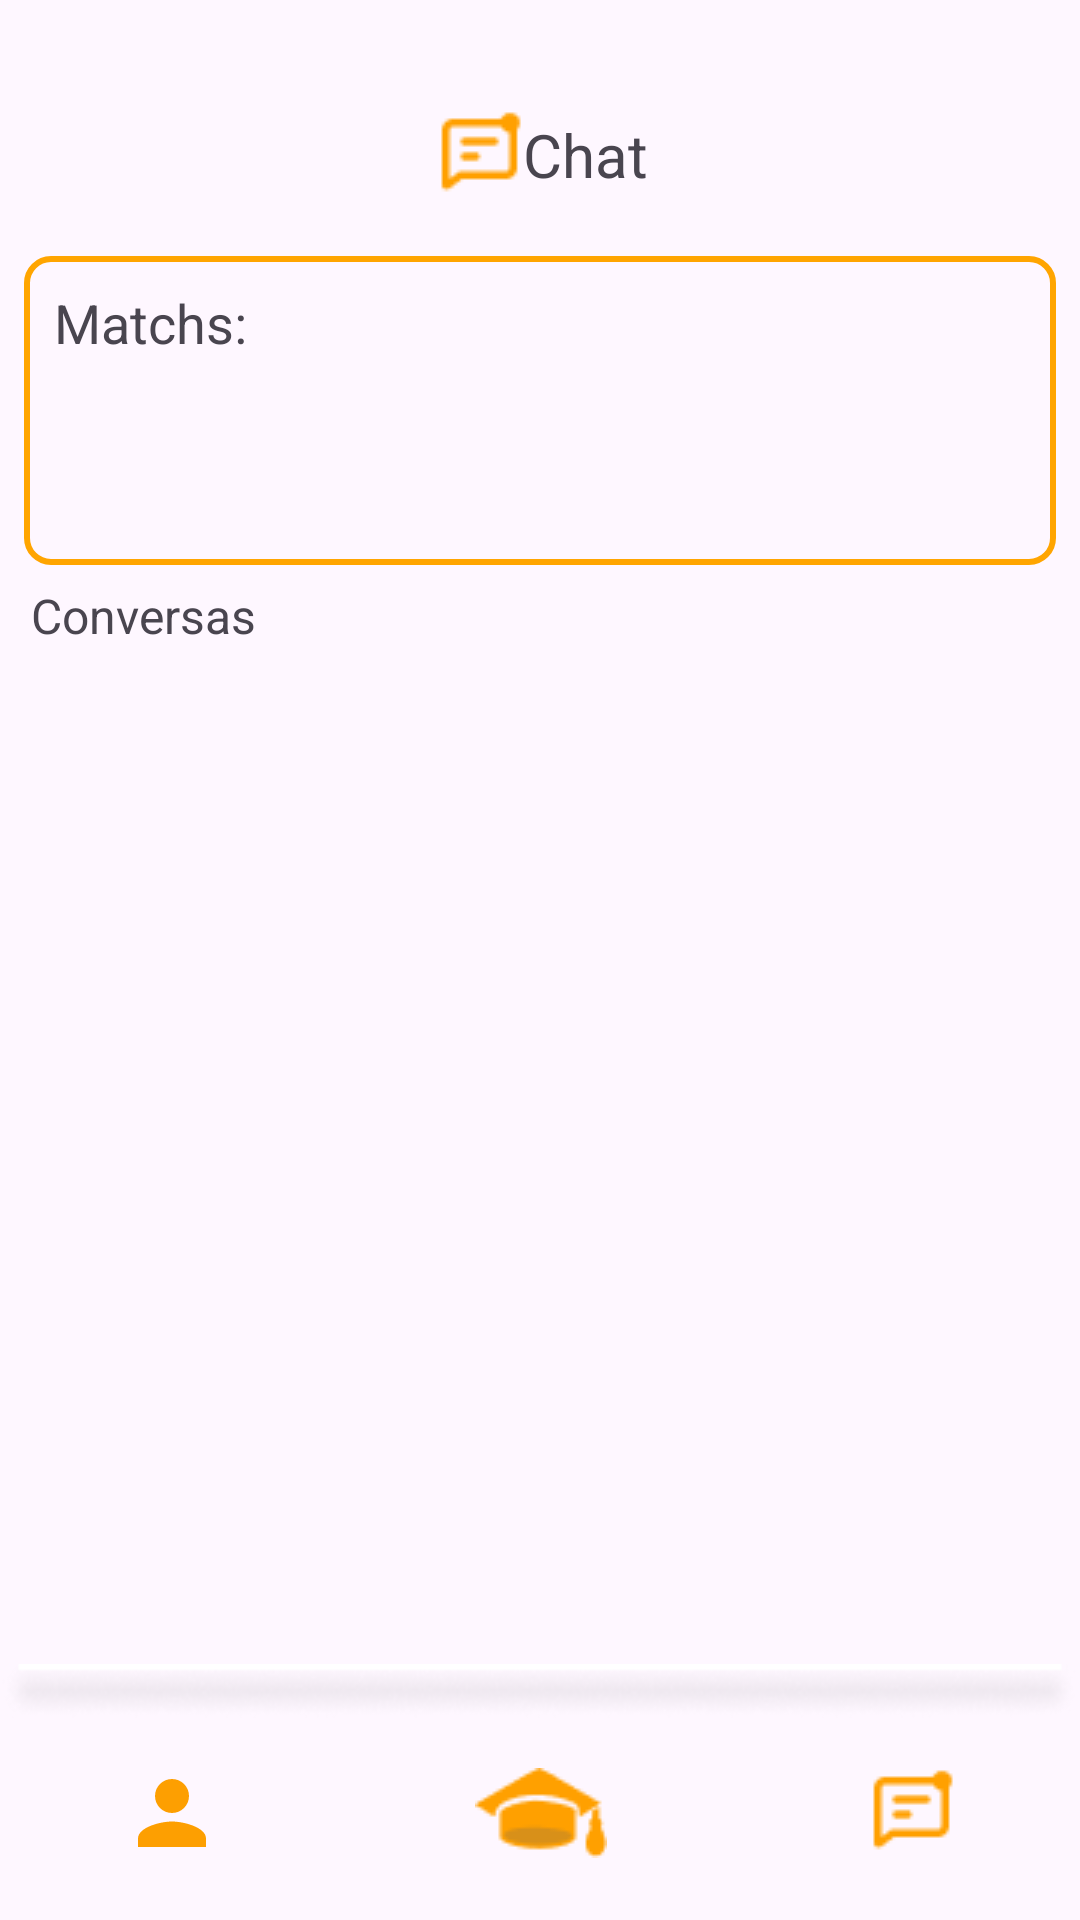

Locate icon controls on the screen. Image size 1080 x 1920, boxes as (x1, y1, x2, y2).
notifimenuorange: (441, 112, 521, 192), (873, 1770, 953, 1850)
person: (138, 1779, 206, 1847)
